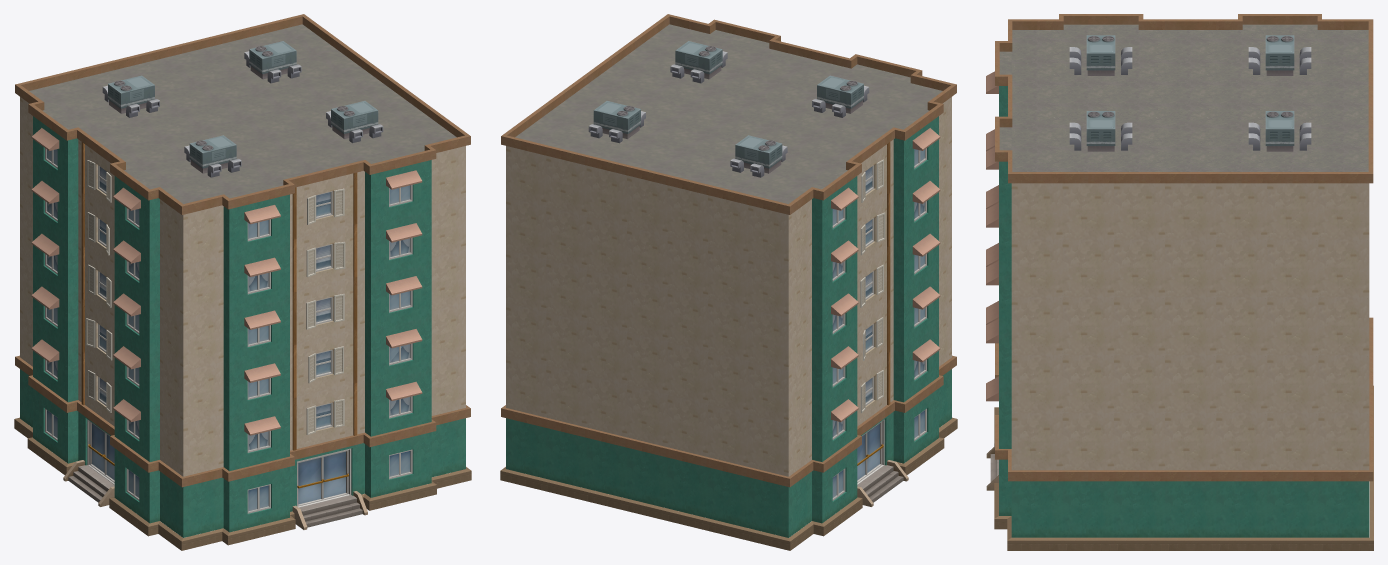
Rendered from Building_8-transformed.glb.
3 views of the same model, side by side, from view 1: azimuth 30°, elevation 25°; view 2: azimuth 150°, elevation 25°; view 3: azimuth 270°, elevation 25° (orthographic). The views are drawn at different scales.
Parts seen in each view (by area): view 1: Building_8_Decor_1_1; view 2: Building_8_Decor_1_1; view 3: Building_8_Decor_1_1.
Part boxes in pixels (x1,y1,x2,y2): Building_8_Decor_1_1: (14,14,471,550); Building_8_Decor_1_1: (500,14,957,550); Building_8_Decor_1_1: (986,14,1373,550).
Size of the model in its own units: 15.18 by 16.95 by 15.18.
Materials: 13 (13 with a texture image).
